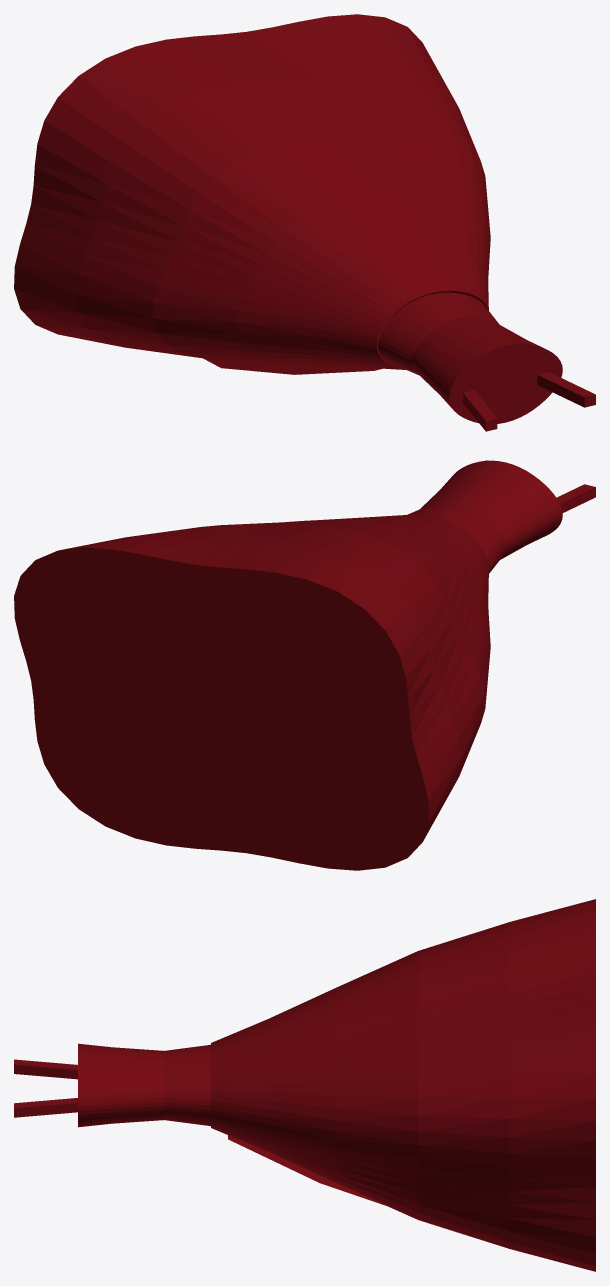
The model's file is burgundy_dress.obj.
3 views of the same model, one above another, from view 1: azimuth 30°, elevation 25°; view 2: azimuth 150°, elevation 25°; view 3: azimuth 270°, elevation 25° (orthographic). The views are drawn at different scales.
Parts seen in each view (by area): view 1: BurgundyDress; view 2: BurgundyDress; view 3: BurgundyDress.
Part boxes in pixels (x1,y1,x2,y2): BurgundyDress: [14, 14, 595, 431]; BurgundyDress: [14, 460, 595, 870]; BurgundyDress: [14, 899, 595, 1271].
Bounding box in the file's own units: 2.53 × 1.75 × 3.37.
